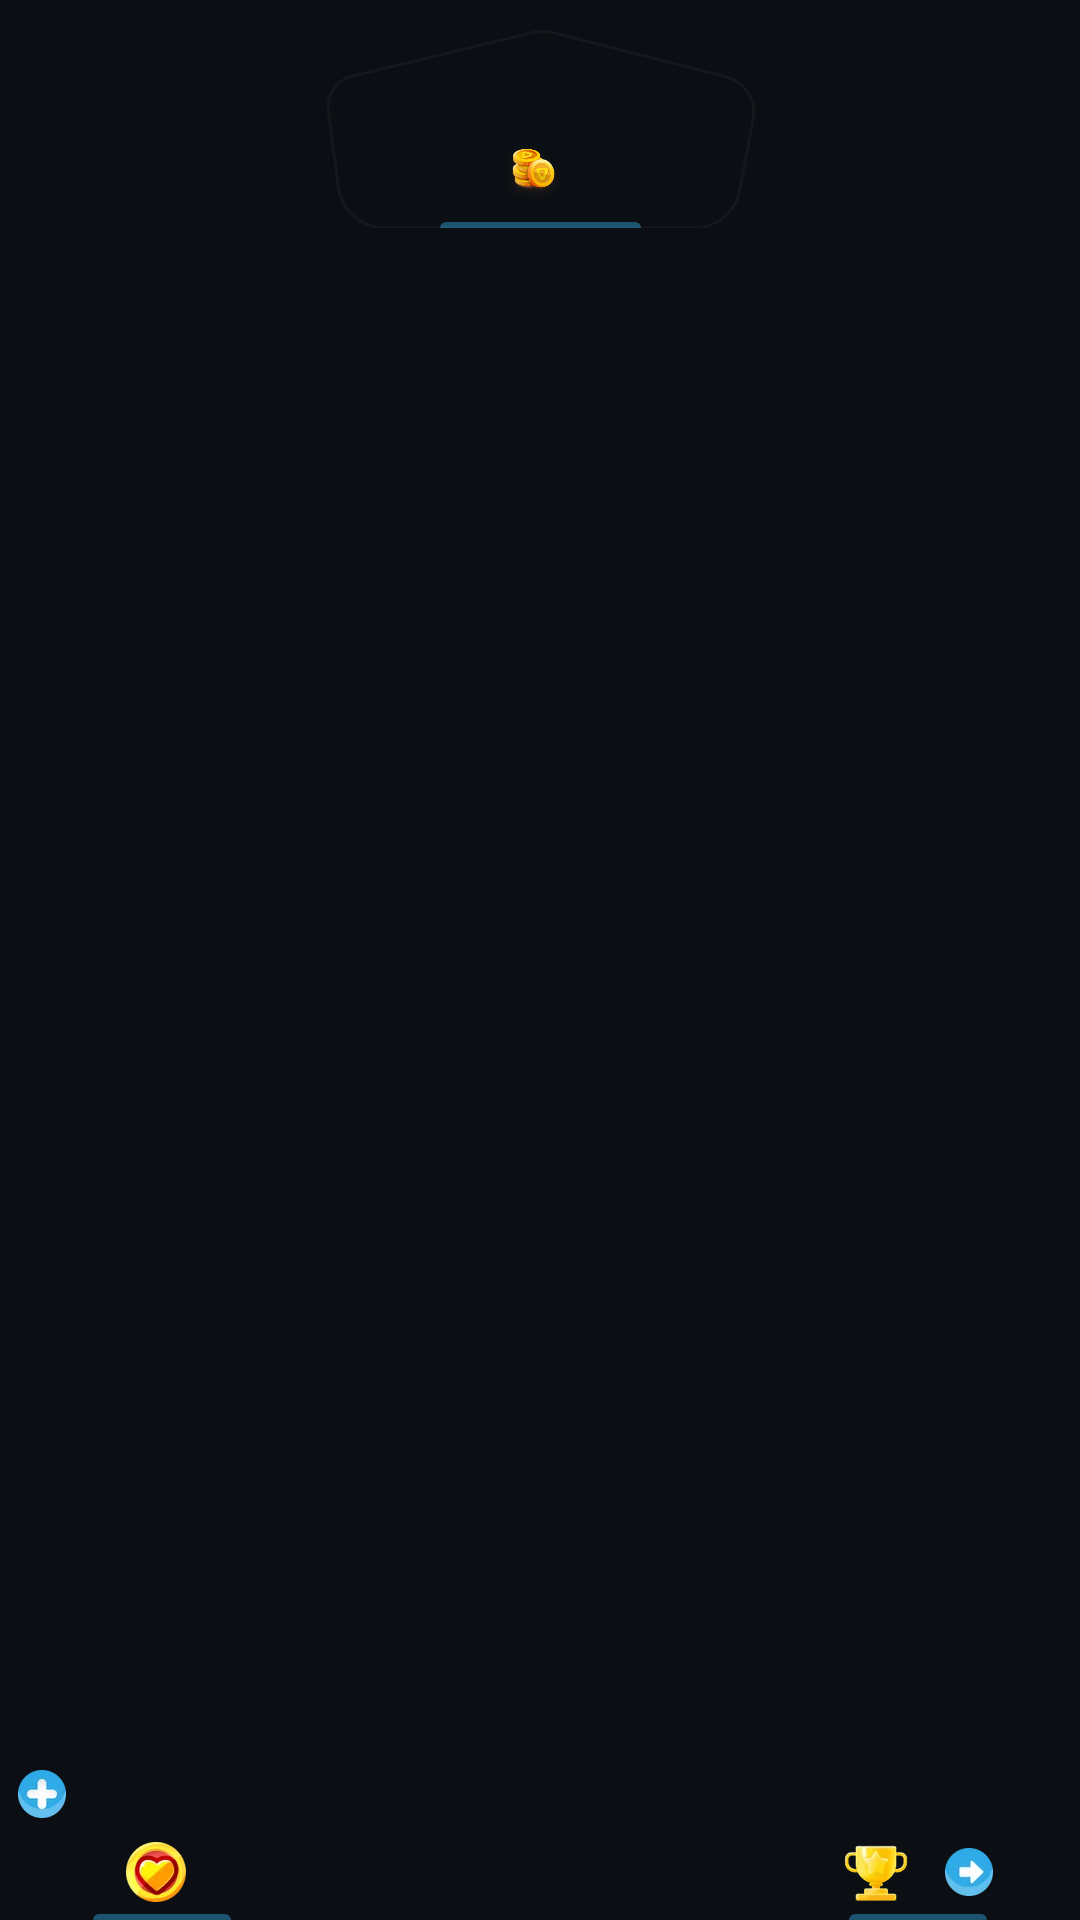

Icon bounding boxes for this 1080x1920 phone screenshot, format (x1,y1,x2,y2):
im arrow right: (945,1848,993,1896)
im coins: (512,149,555,189)
im heart: (126,1842,186,1902)
im plus: (18,1770,66,1818)
im trophy: (845,1846,907,1901)
